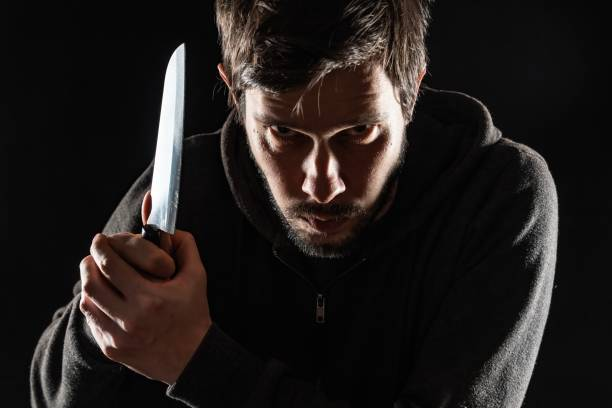knife: (139, 42, 189, 257)
